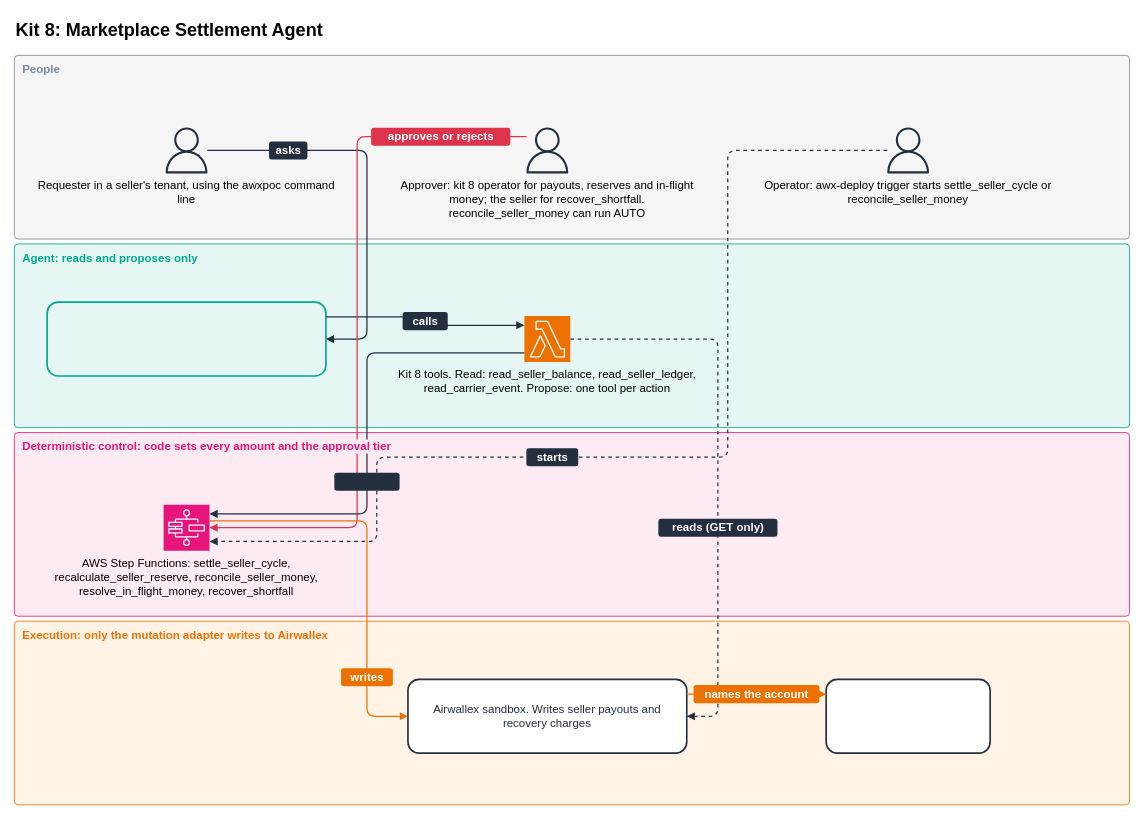
Image size: 1144x819. Some labels were removed from this diagram. Here are the shapes that lost their labels. From the top down, the centre of each, then its label:
At (x=186, y=338): "Amazon Bedrock AgentCore Runtime: the agent and its Amazon Bedrock model".
At (x=366, y=481): "proposes".
At (x=908, y=716): "Connected accounts, one per seller".
